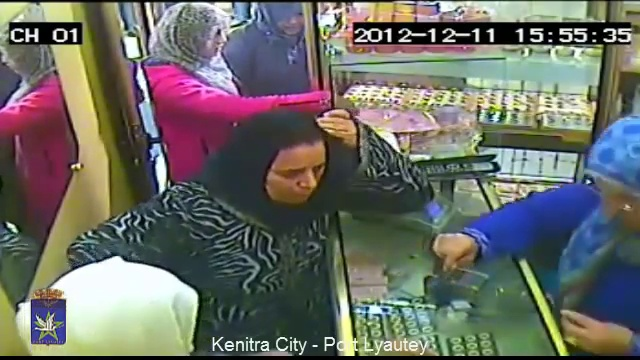face: (272, 149, 326, 204), (201, 16, 226, 64), (282, 9, 307, 33)
